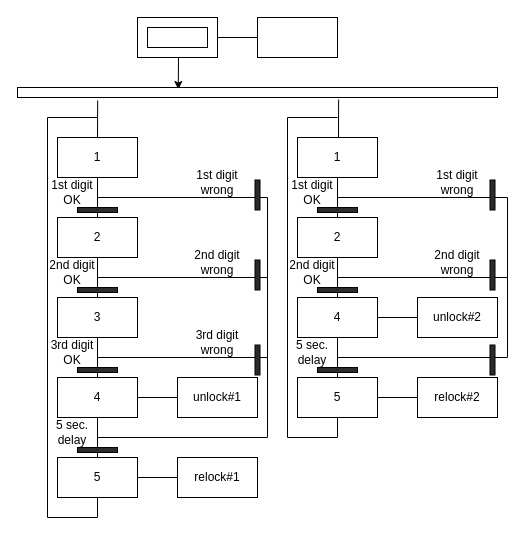
Image size: 526x536. Some labels were removed from this diagram. Each missing label, with the centre of its shape:
lock doors: the point at 297,37
Start: the point at 177,37
